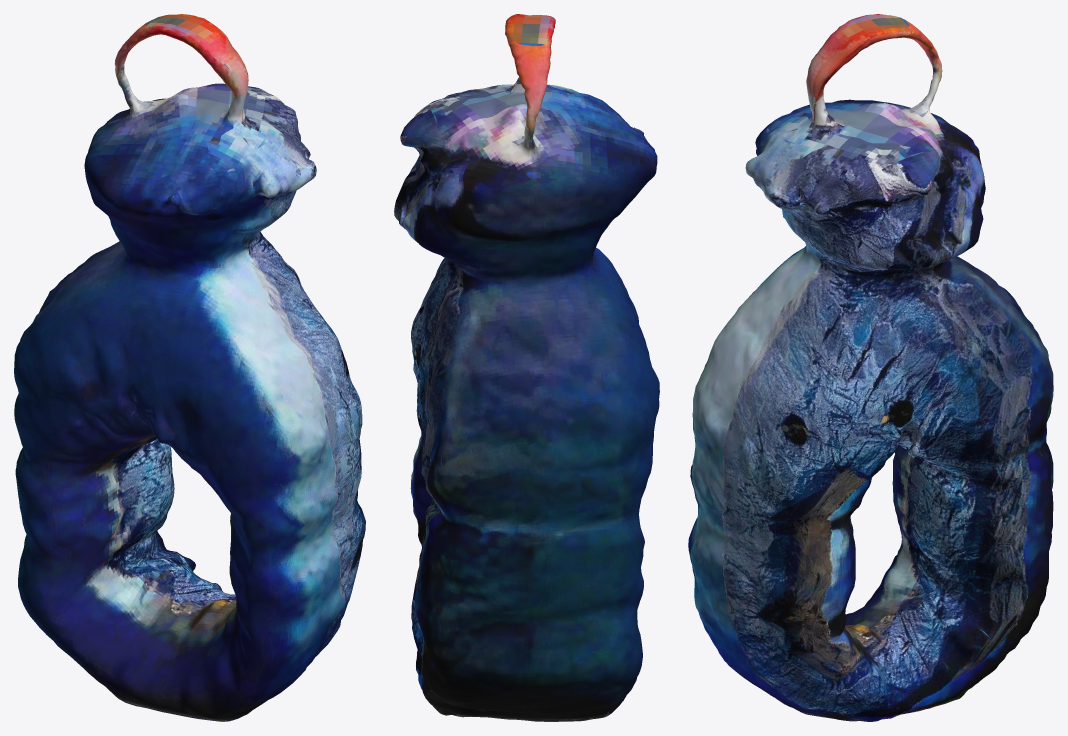
The model's file is SpiritSheela.glb.
The picture shows the model from 3 angles, left to right: view 1: azimuth 30°, elevation 25°; view 2: azimuth 150°, elevation 25°; view 3: azimuth 270°, elevation 25°; orthographic projection. The views are drawn at different scales.
Parts seen in each view (by area): view 1: Mesh1; view 2: Mesh1; view 3: Mesh1.
Part boxes in pixels (bbox=[...]): Mesh1: bbox=[14, 14, 365, 721]; Mesh1: bbox=[394, 14, 659, 721]; Mesh1: bbox=[688, 14, 1053, 721].
Size of the model in its own units: 0.5266 by 1.2 by 0.5894.
1 material, 1 textured.
